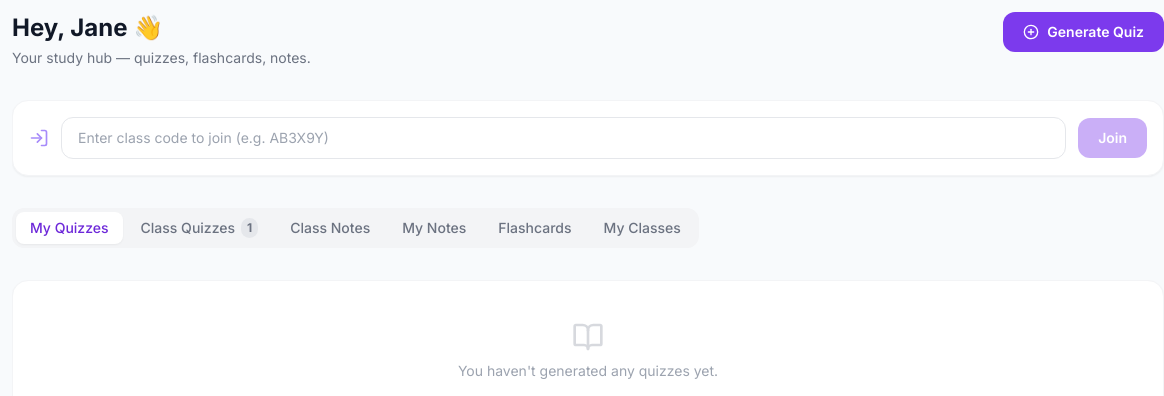
Scenario: StudentDashboard - FEAT-003 › AC-3.2.3: quizzes rendered with class name label
The image size is (1164, 396).
# Switch to class quizzes tab
What coordinates should you click on to do the following:
click the button "Class Quizzes 1"
I would click on:
 (199, 228)
Its box is [127, 212, 272, 244].
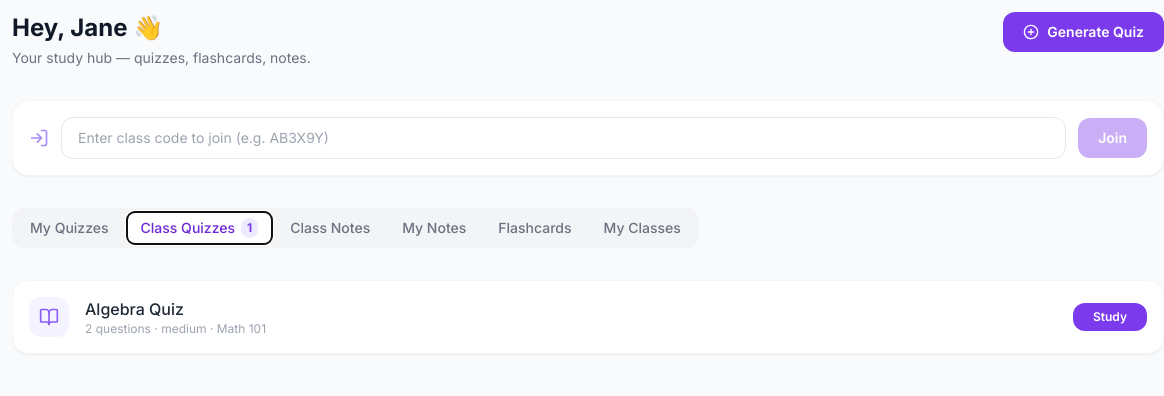
Check: the text "Algebra Quiz" is shown, box [85, 299, 184, 319]
Check: the text "2 questions · medium · Math 101" is shown, box [85, 321, 266, 336]
